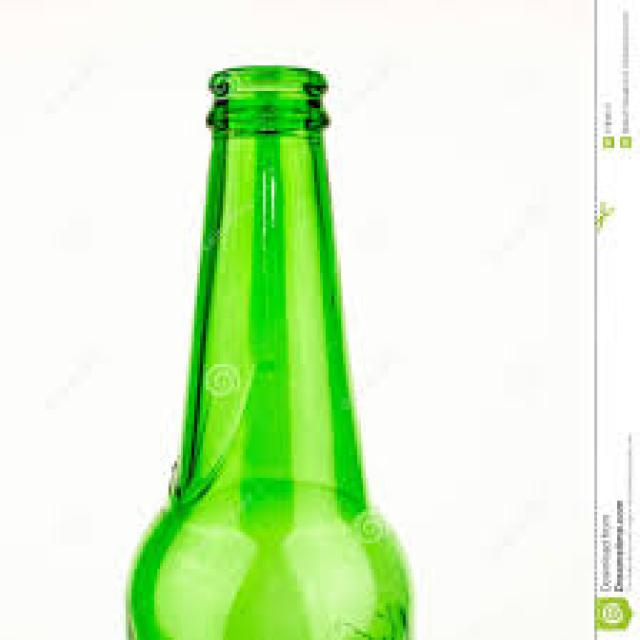glass: (123, 63, 406, 637)
